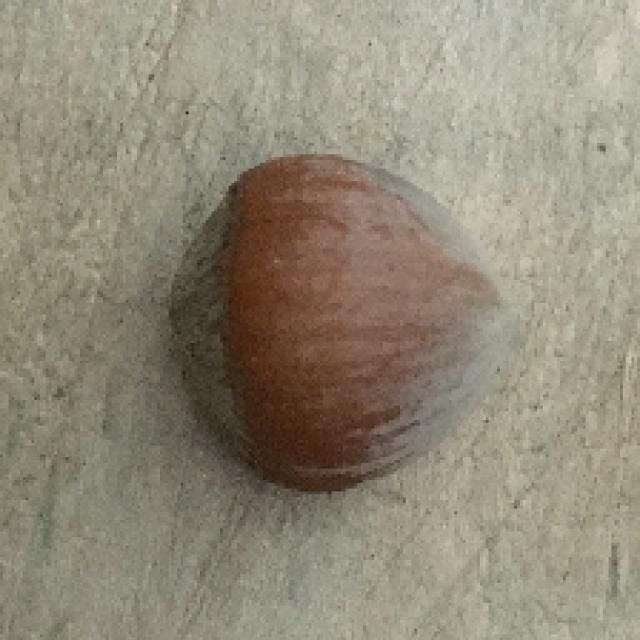qualityHazelnut: (168, 154, 514, 498)
